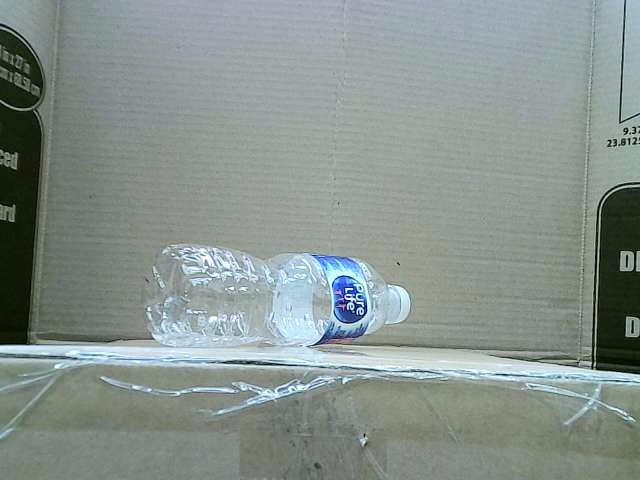WaterBottle: (144, 244, 409, 348)
